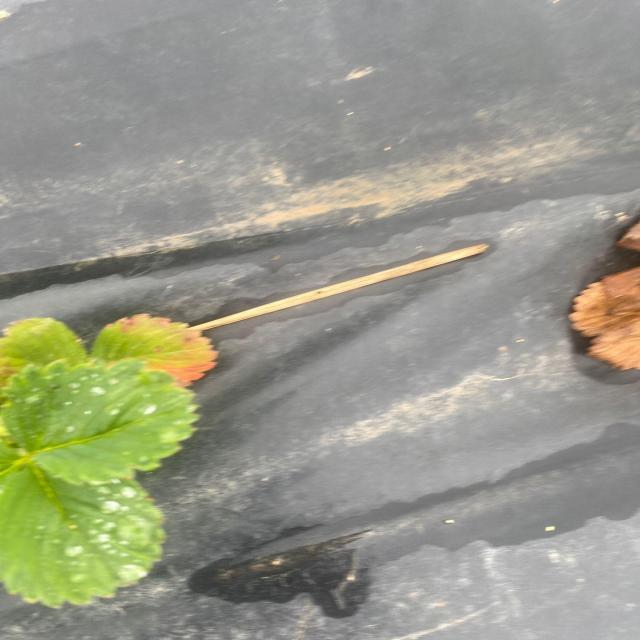flower: (0, 307, 211, 640)
